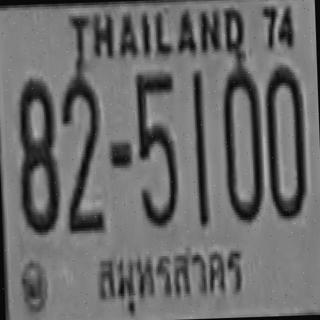N00: (220, 64, 262, 222), (264, 63, 306, 218)
N01: (190, 69, 207, 226)
N02: (60, 74, 103, 231)
N05: (133, 69, 178, 226)
N08: (15, 75, 58, 233)
P58: (93, 240, 253, 313)
